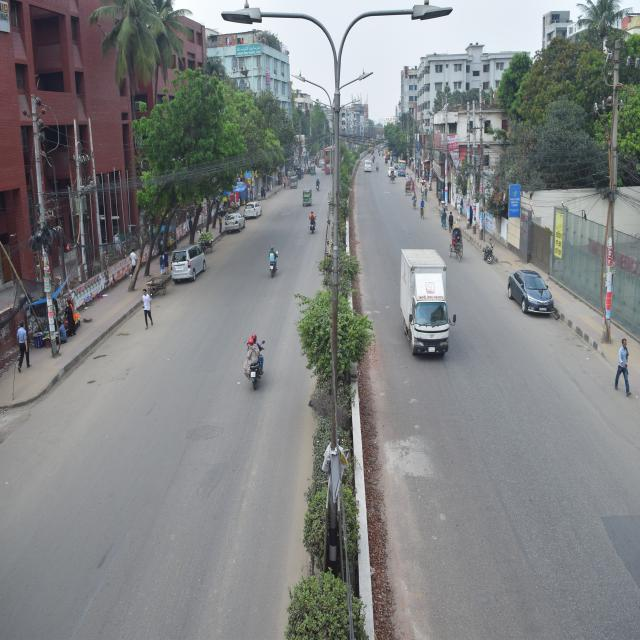car: (508, 264, 565, 323), (222, 208, 248, 236), (244, 189, 266, 222), (364, 156, 373, 178)
microbus: (171, 242, 213, 287)
motorbike: (242, 322, 275, 393), (264, 244, 284, 285), (482, 236, 502, 274), (306, 207, 320, 239)
pickup-van: (394, 241, 458, 368)
